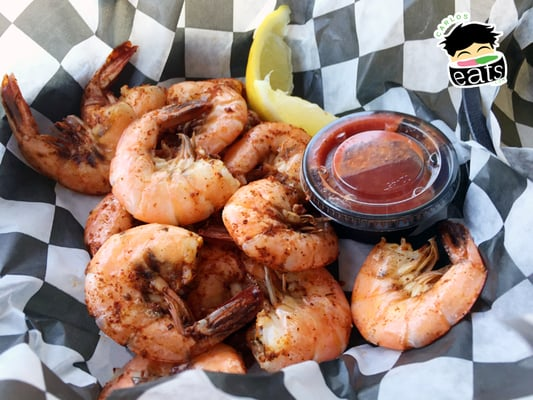sushi: (301, 110, 467, 244)
